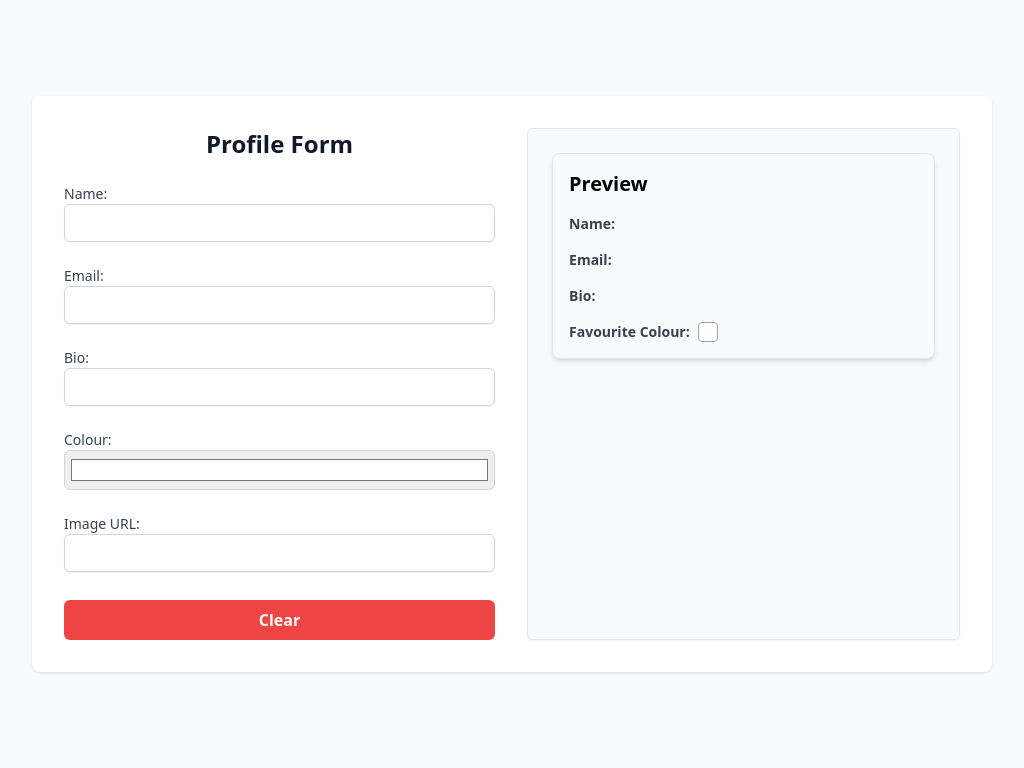
Test: clicking the clear button resets all inputs
Type "John Cena" into the field labelled "Name:" at (280,223), box [64, 204, 495, 242]
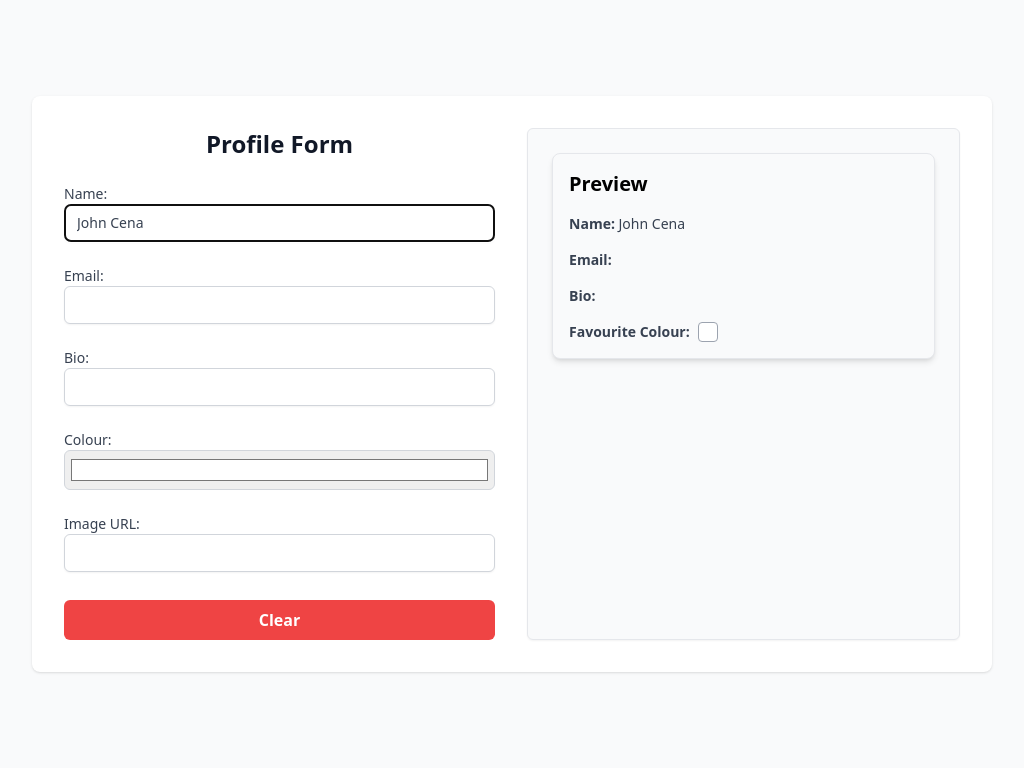
Type "john.cena@gmail.com" into the field labelled "Email:" at (280,305), box [64, 286, 495, 324]
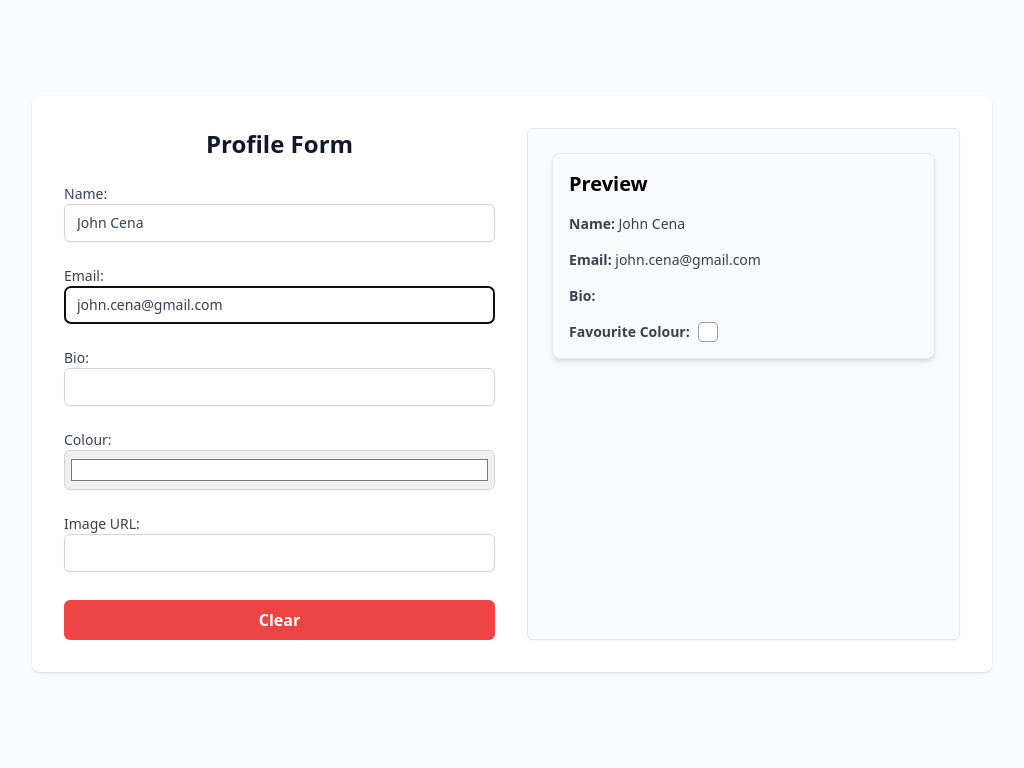
Type "And his name is... John Cena!" into the field labelled "Bio:" at (280,387), box [64, 368, 495, 406]
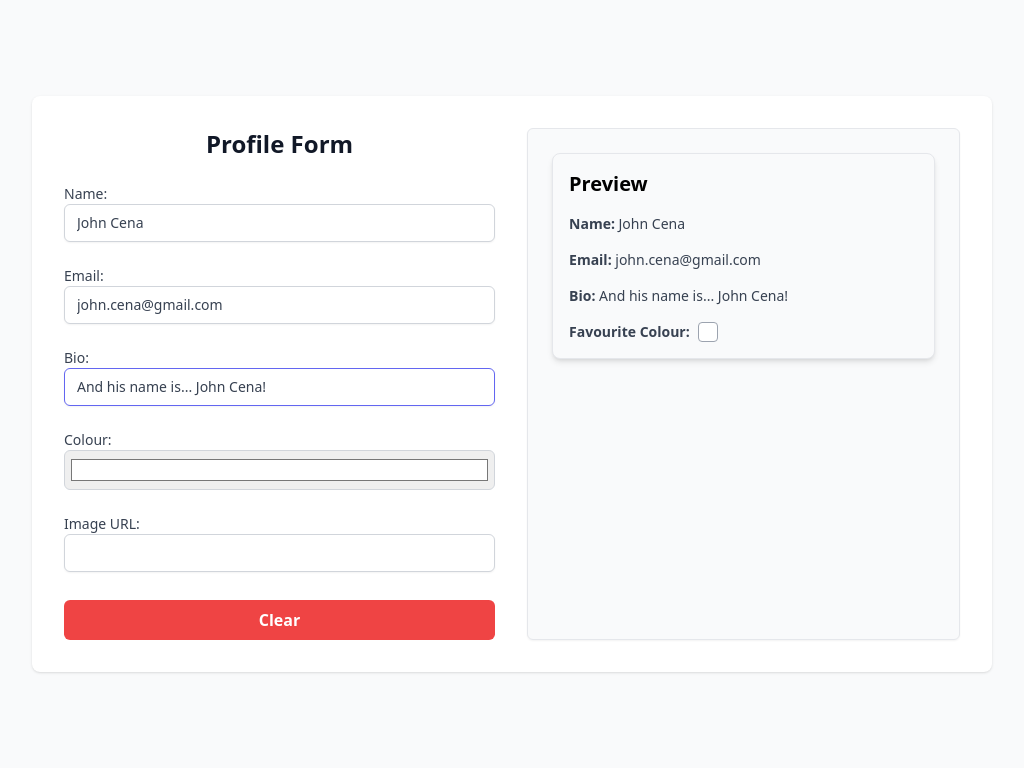
Type "https://wwe.com/john-cena.png" into the field labelled "Image URL:" at (280,553), box [64, 534, 495, 572]
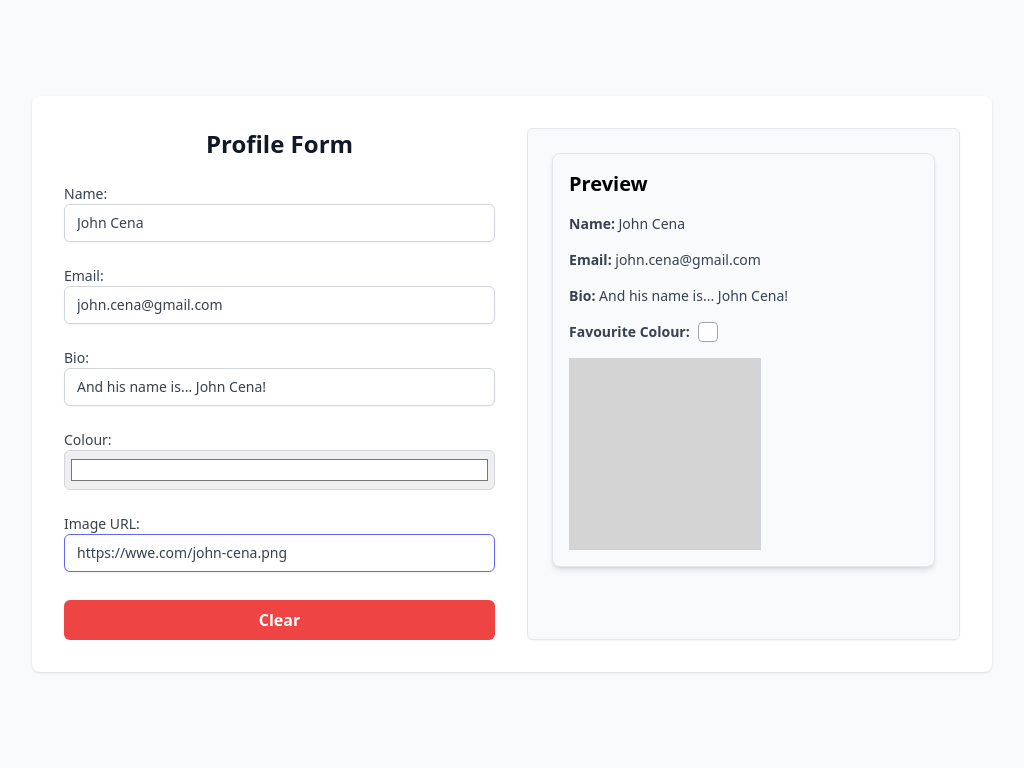
Type "#000000" into the colour field labelled "Colour:" at (280,470), box [64, 450, 495, 490]
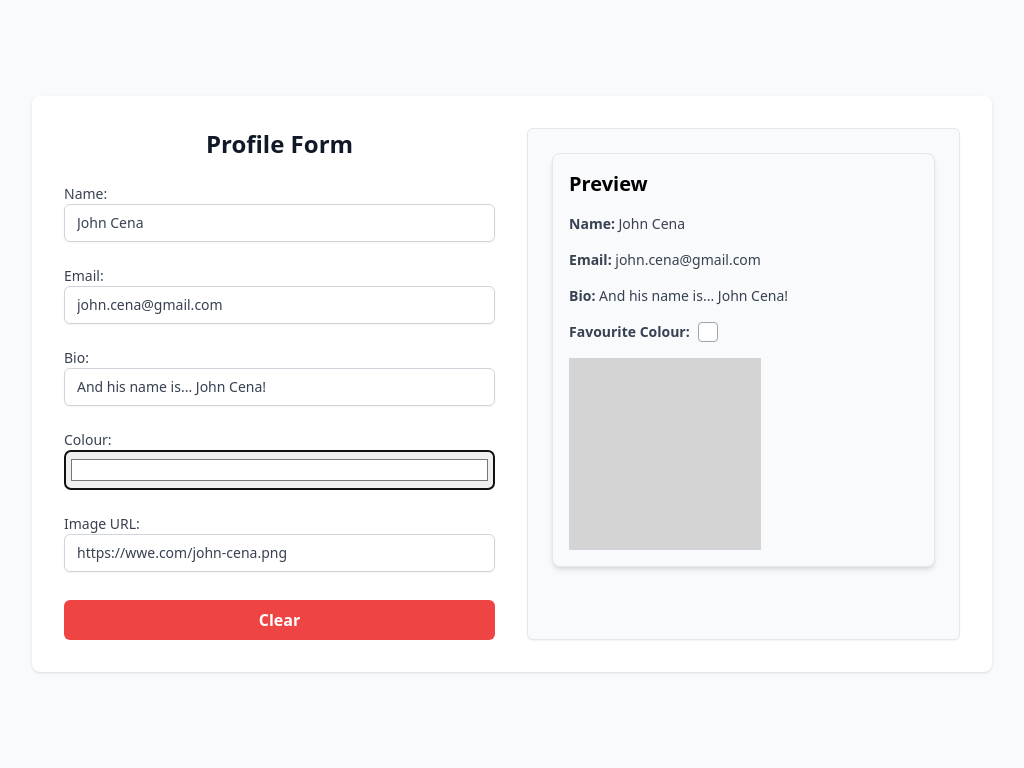
Click the button "Clear" at (280,620), box [64, 600, 495, 640]
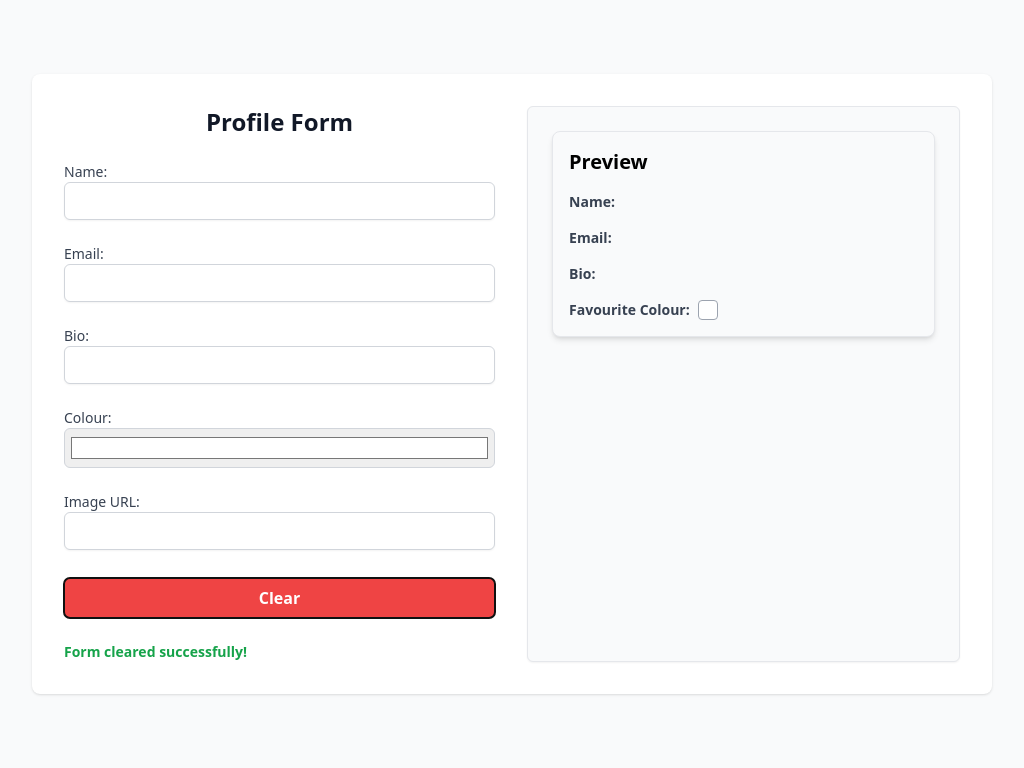
Result: the field labelled "Name:" is empty at [64, 182, 495, 220]
Result: the field labelled "Email:" is empty at [64, 264, 495, 302]
Result: the field labelled "Bio:" is empty at [64, 346, 495, 384]
